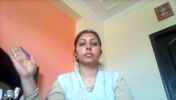Hand: (51, 83, 85, 100)
